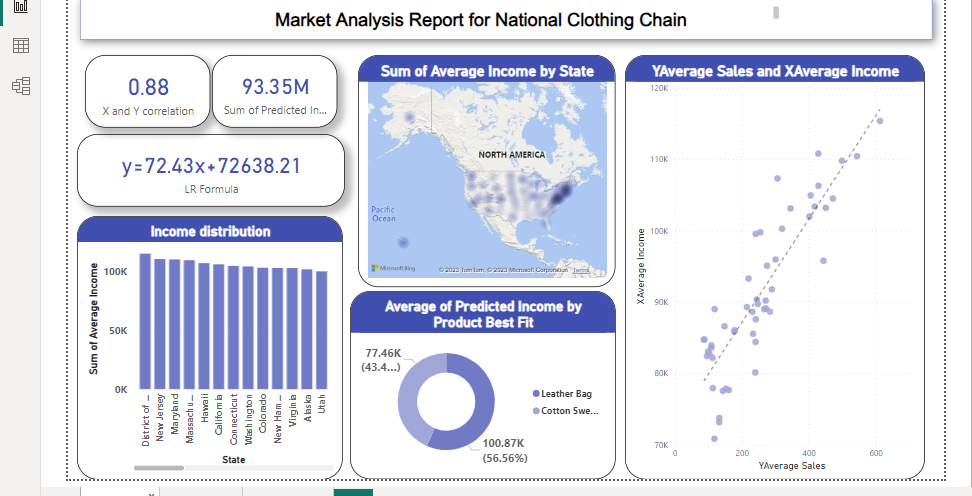

The dashboard page shown, as its layout file describes it:
{"tool":"powerbi","page":{"name":"Visuals","canvas":[1280,720],"ordinal":0},"visuals":[{"type":"shape","box":[0,0,1280,720.6],"z":0},{"type":"shape","box":[0,0,1280,95.7],"z":1000},{"type":"scatterChart","fields":{"X":["Regression Table.YAverage Sales"],"Y":["Regression Table.XAverage Income"]},"box":[823.1,95.7,438.4,619.8],"z":2000},{"type":"card","fields":{"Values":["Regression Table.LR Formula"]},"box":[13.4,216.7,391.4,105.8],"z":3000},{"type":"map","title":"Average Income by State","fields":{"Category":["Avg Income by State.State"],"Size":["Sum(Regression Table.XAverage Income)"]},"box":[423.3,100.8,376.3,339.3],"z":4000},{"type":"card","fields":{"Values":["Regression Table.R Average of X and Y correlation for State"]},"box":[25.2,100.8,183.1,105.8],"z":5000},{"type":"card","fields":{"Values":["Sum(Customer List.Predicted Income)"]},"box":[210,100.8,183.1,105.8],"z":6000},{"type":"donutChart","fields":{"Category":["Customer List.Product Best Fit"],"Y":["Avg(Customer List.Predicted Income)"]},"box":[411.5,445.1,388,275.5],"z":7000},{"type":"columnChart","title":"Income distribution","fields":{"Y":["Sum(Avg Income by State.Average Income)"],"Category":["Avg Income by State.State"]},"box":[13.4,336,388,384.7],"z":8000},{"type":"textbox","box":[178.1,25.2,865.1,45.4],"z":9000}]}

Visuals, with their boxes on the page's 1280x720 design canvas (x1, y1, x2, y2). These are canvas units, not pixel positions in the 972x496 screenshot, which may show the page scaled, cropped or inside an application window:
shape: x1=0, y1=0, x2=1280, y2=721
shape: x1=0, y1=0, x2=1280, y2=96
scatterChart - Regression Table.YAverage Sales x Regression Table.XAverage Income: x1=823, y1=96, x2=1262, y2=716
card - Regression Table.LR Formula: x1=13, y1=217, x2=405, y2=322
"Average Income by State" map: x1=423, y1=101, x2=800, y2=440
card - Regression Table.R Average of X and Y correlation for State: x1=25, y1=101, x2=208, y2=207
card - Sum(Customer List.Predicted Income): x1=210, y1=101, x2=393, y2=207
donutChart - Customer List.Product Best Fit x Avg(Customer List.Predicted Income): x1=412, y1=445, x2=800, y2=721
"Income distribution" columnChart: x1=13, y1=336, x2=401, y2=721
textbox: x1=178, y1=25, x2=1043, y2=71
